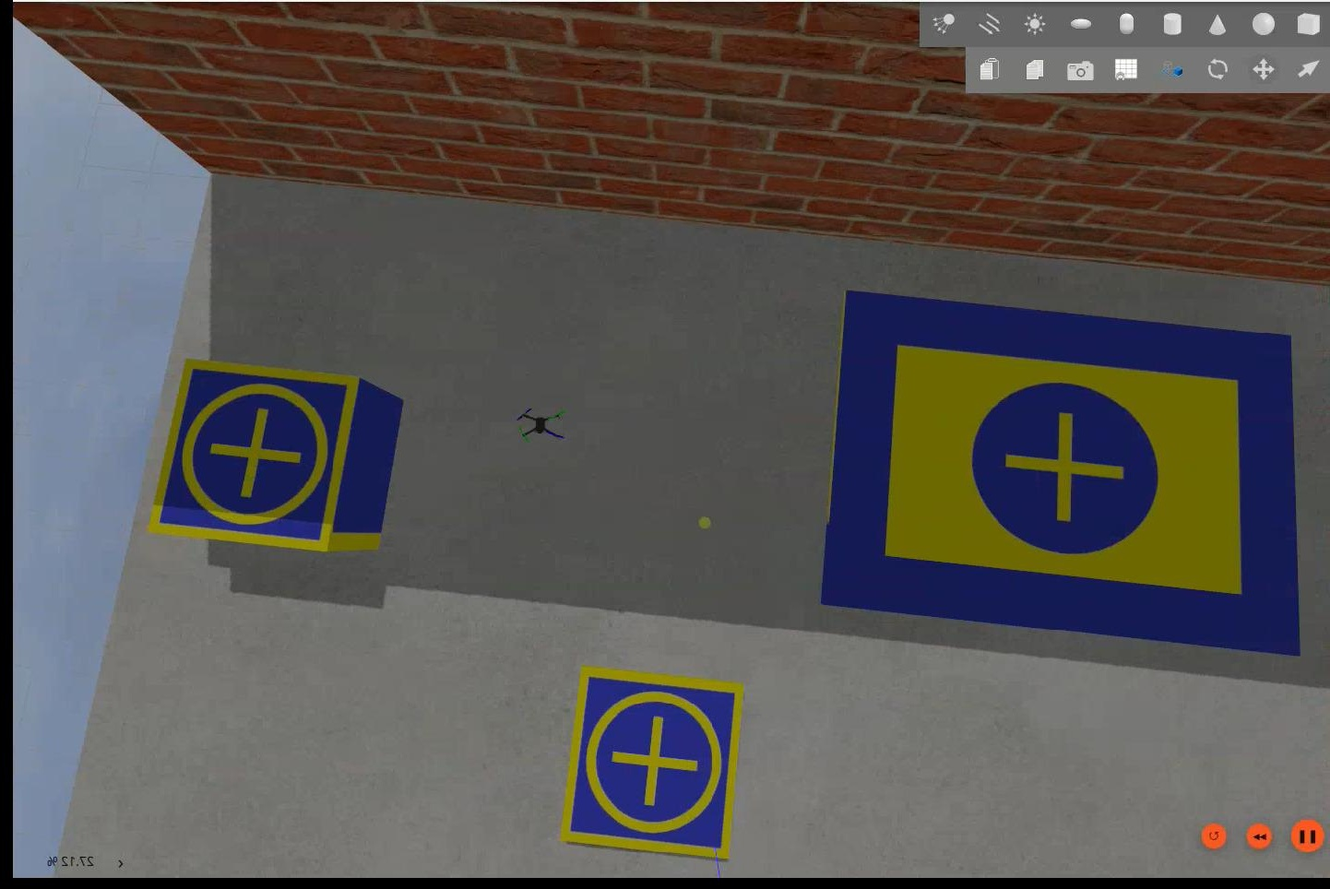large_base: (815, 286, 1305, 663)
small_base: (145, 358, 363, 553), (554, 672, 744, 871)
